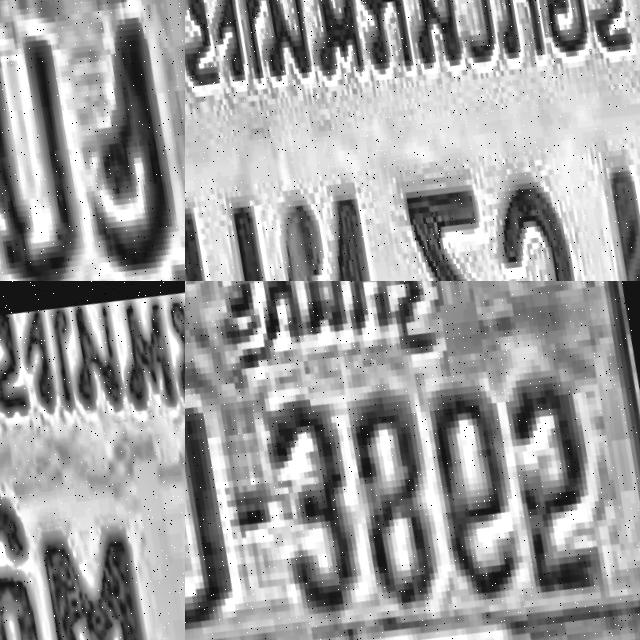license-plate: (185, 281, 640, 640), (185, 0, 640, 281), (0, 281, 185, 640), (0, 0, 185, 281)
